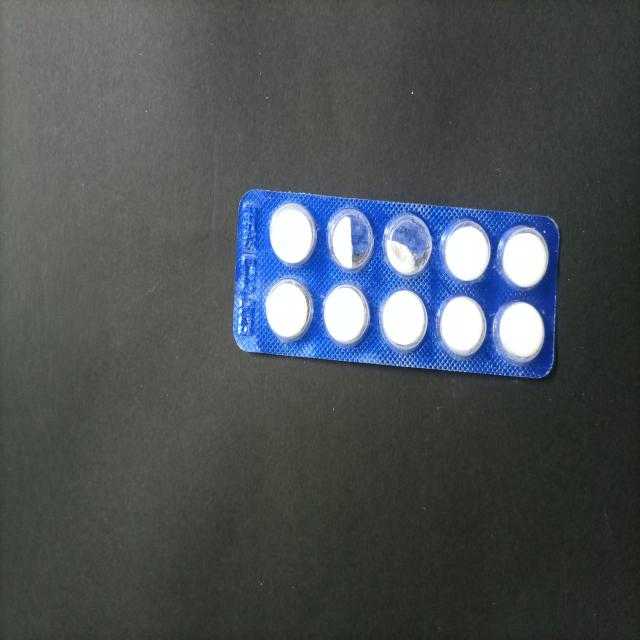defect: (381, 209, 434, 280), (326, 206, 376, 272)
